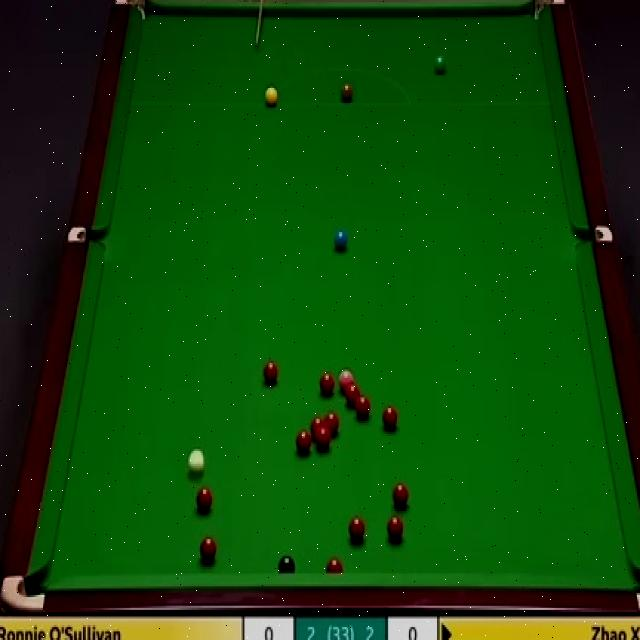black-ball: (277, 553, 296, 573)
blue-ball: (334, 231, 348, 249)
brown-ball: (340, 84, 354, 108)
green-ball: (434, 53, 447, 70)
pink-ball: (338, 370, 354, 390)
red-ball: (198, 536, 217, 562), (392, 482, 409, 511), (349, 513, 365, 543), (324, 411, 341, 439), (196, 485, 214, 511), (295, 430, 312, 455), (388, 516, 404, 540), (264, 360, 278, 386), (316, 428, 331, 451), (381, 408, 398, 427), (318, 372, 333, 393), (310, 418, 325, 438), (345, 383, 359, 404), (356, 398, 369, 420), (326, 557, 343, 572)
white-ball: (187, 450, 206, 474)
yellow-ball: (265, 86, 278, 108)
